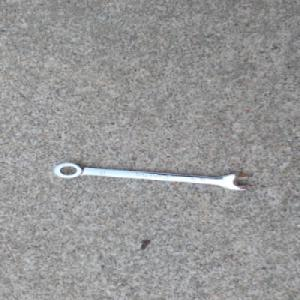Wrench: (51, 161, 250, 191)
